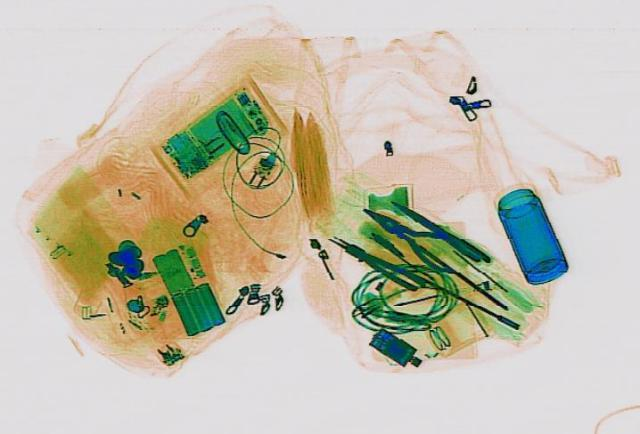Pliers: (345, 195, 479, 275), (384, 195, 494, 265), (320, 230, 430, 291)
